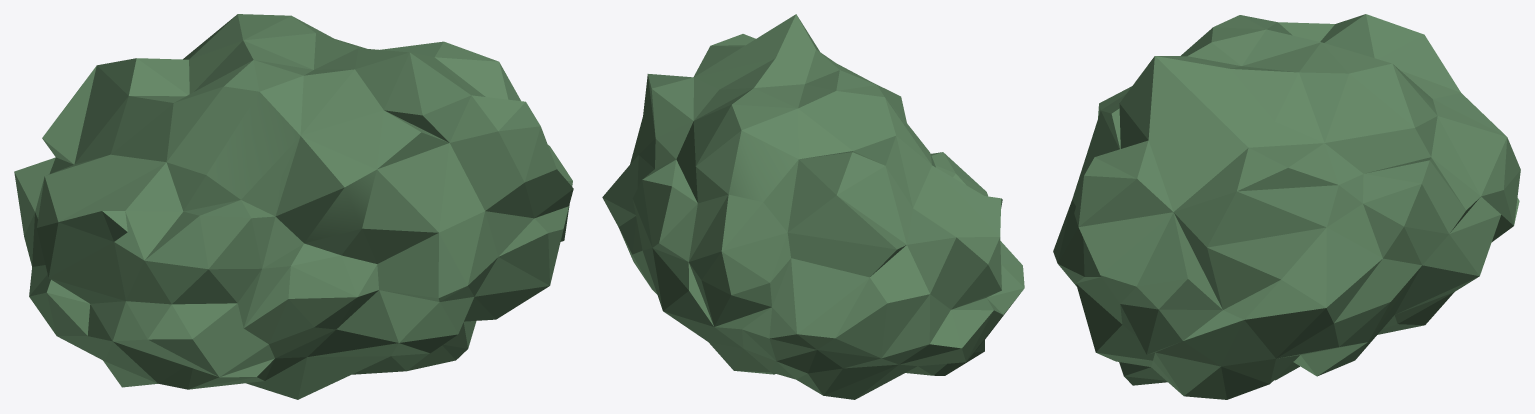
Rendered from shrub4.fbx.
3 views of the same model, side by side, from view 1: azimuth 30°, elevation 25°; view 2: azimuth 150°, elevation 25°; view 3: azimuth 270°, elevation 25° (orthographic). The views are drawn at different scales.
Visible parts, largest first — view 1: shrub4; view 2: shrub4; view 3: shrub4.
Boxes of the visible parts, x1=… form: shrub4: x1=14, y1=14, x2=573, y2=399; shrub4: x1=602, y1=14, x2=1024, y2=399; shrub4: x1=1053, y1=14, x2=1520, y2=399.
Bounding box in the file's own units: 4.59 × 3.12 × 3.96.
